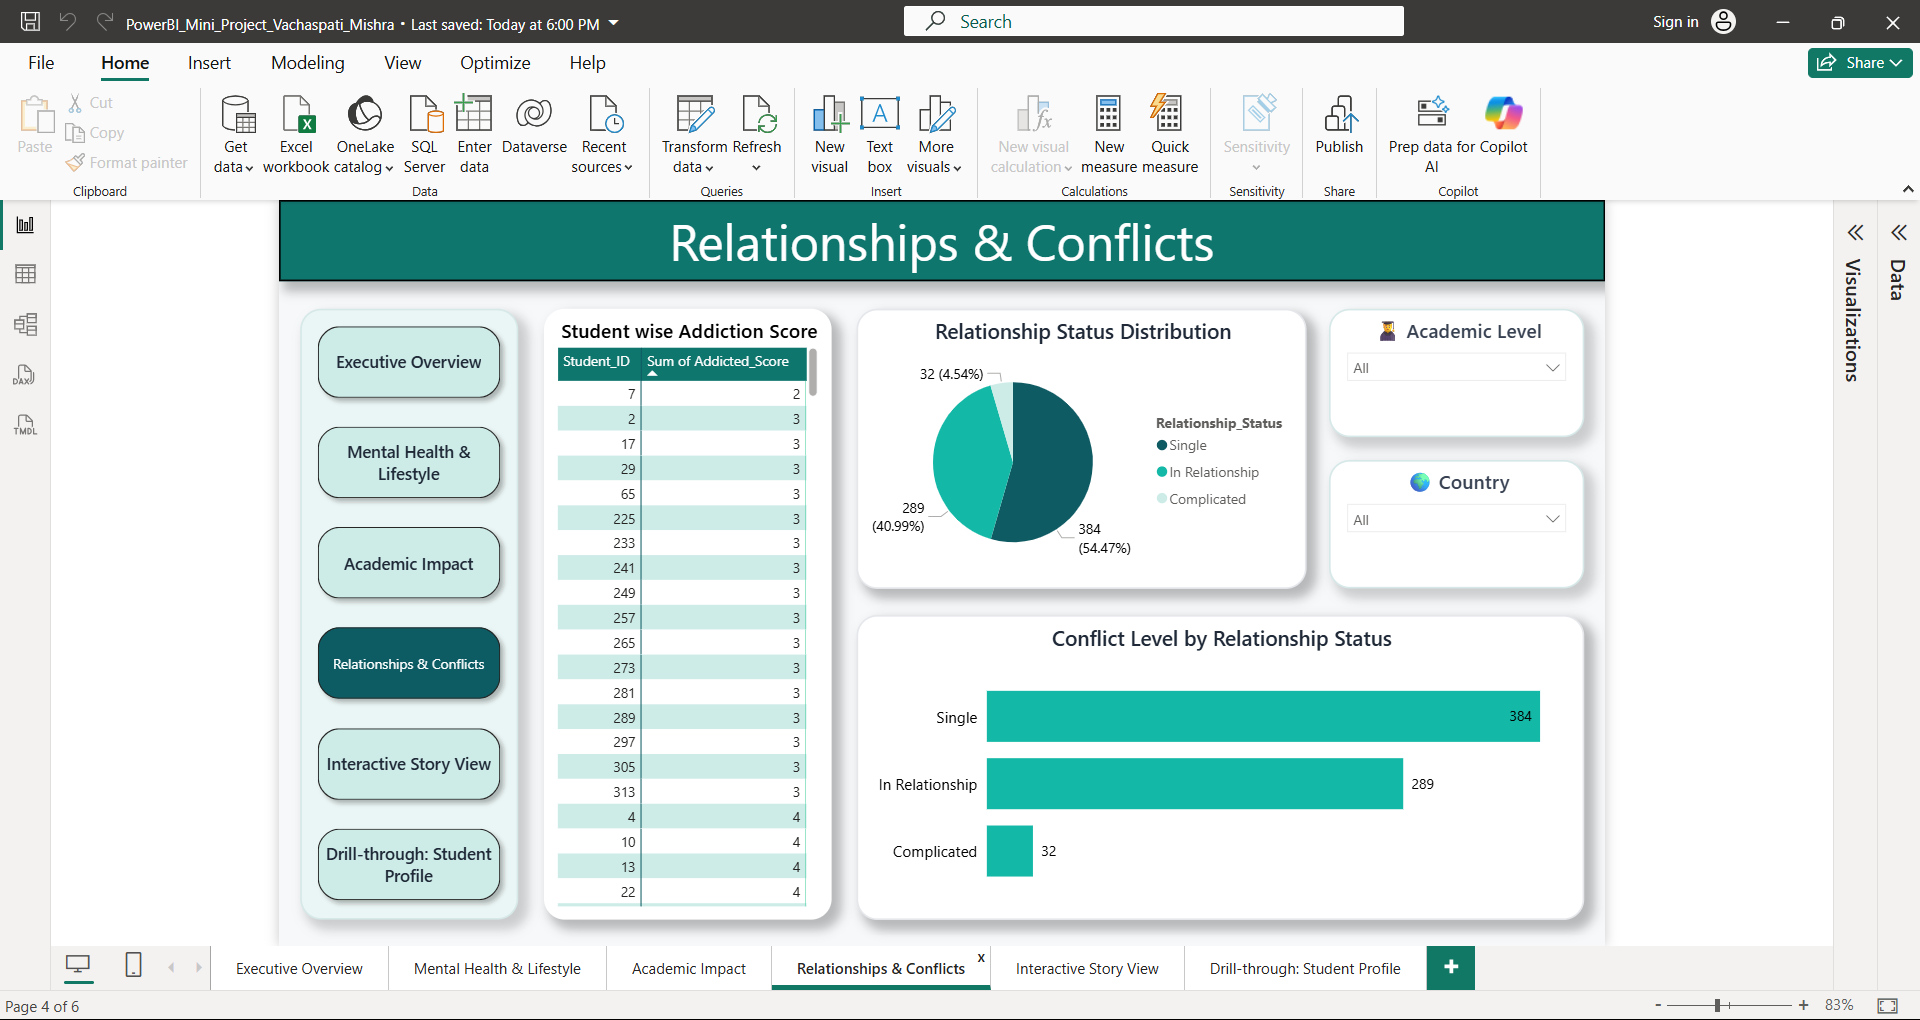

What the dashboard file says about the page in this screenshot:
{"tool":"powerbi","page":{"name":"Relationships & Conflicts","canvas":[1280,720],"ordinal":3},"visuals":[{"type":"textbox","box":[0,0,1280.3,78.3],"z":0},{"type":"barChart","title":"Conflict Level by Relationship Status","fields":{"Category":["Student Details.Relationship_Status"],"Y":["CountNonNull(Student Details.Conflict Level)"]},"box":[557.4,400.5,702.1,294.4],"z":1000},{"type":"tableEx","title":"Student wise Addiction Score","fields":{"Values":["Student Details.Student_ID","Sum(Student Details.Addicted_Score)"]},"box":[255.8,105,277.5,589.9],"z":2000},{"type":"pieChart","title":"Relationship Status Distribution","fields":{"Y":["CountNonNull(Student Details.Relationship_Status)"],"Category":["Student Details.Relationship_Status"]},"box":[557.4,105,434.3,270.2],"z":3000},{"type":"slicer","title":"🌍 Country","fields":{"Values":["Student Details.Country"]},"box":[1013.4,250.9,246.1,124.3],"z":4000},{"type":"slicer","title":"👨🎓 Academic Level","fields":{"Values":["Student Details.Academic_Level"]},"box":[1013.4,105,246.1,124.3],"z":5000},{"type":"pageNavigator","box":[20.5,105,210,589.9],"z":6000}]}

Visuals, with their boxes on the page's 1280x720 design canvas (x1, y1, x2, y2). These are canvas units, not pixel positions in the 1920x1020 screenshot, which may show the page scaled, cropped or inside an application window:
textbox: [x1=0, y1=0, x2=1280, y2=78]
"Conflict Level by Relationship Status" barChart: [x1=557, y1=400, x2=1260, y2=695]
"Student wise Addiction Score" tableEx: [x1=256, y1=105, x2=533, y2=695]
"Relationship Status Distribution" pieChart: [x1=557, y1=105, x2=992, y2=375]
"🌍 Country" slicer: [x1=1013, y1=251, x2=1260, y2=375]
"👨🎓 Academic Level" slicer: [x1=1013, y1=105, x2=1260, y2=229]
pageNavigator: [x1=20, y1=105, x2=230, y2=695]
